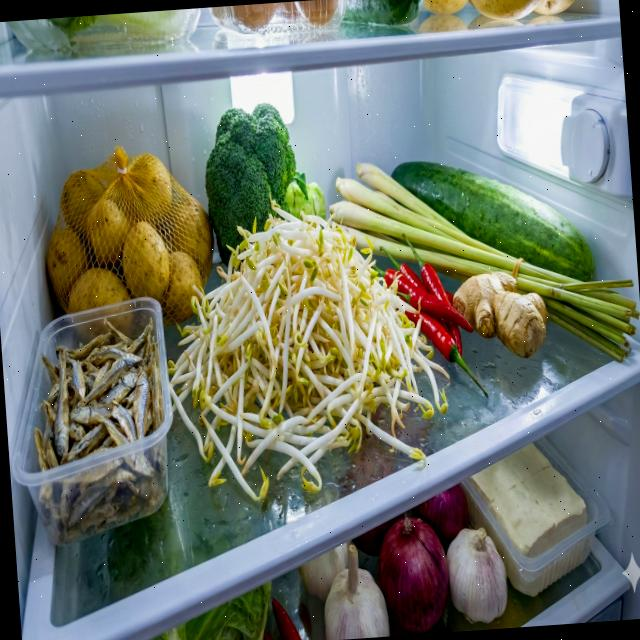anchovies: (27, 312, 174, 544)
bean_sprouts: (156, 178, 458, 508)
brocolli: (200, 98, 330, 270)
chili: (370, 222, 490, 406)
cucumber: (390, 147, 595, 293)
garlic: (295, 538, 390, 640), (444, 522, 510, 622)
ginger: (450, 266, 551, 362)
lemongrass: (326, 142, 640, 382)
onion: (374, 513, 452, 636)
potato: (40, 148, 222, 342)
tofu: (466, 438, 594, 600)
